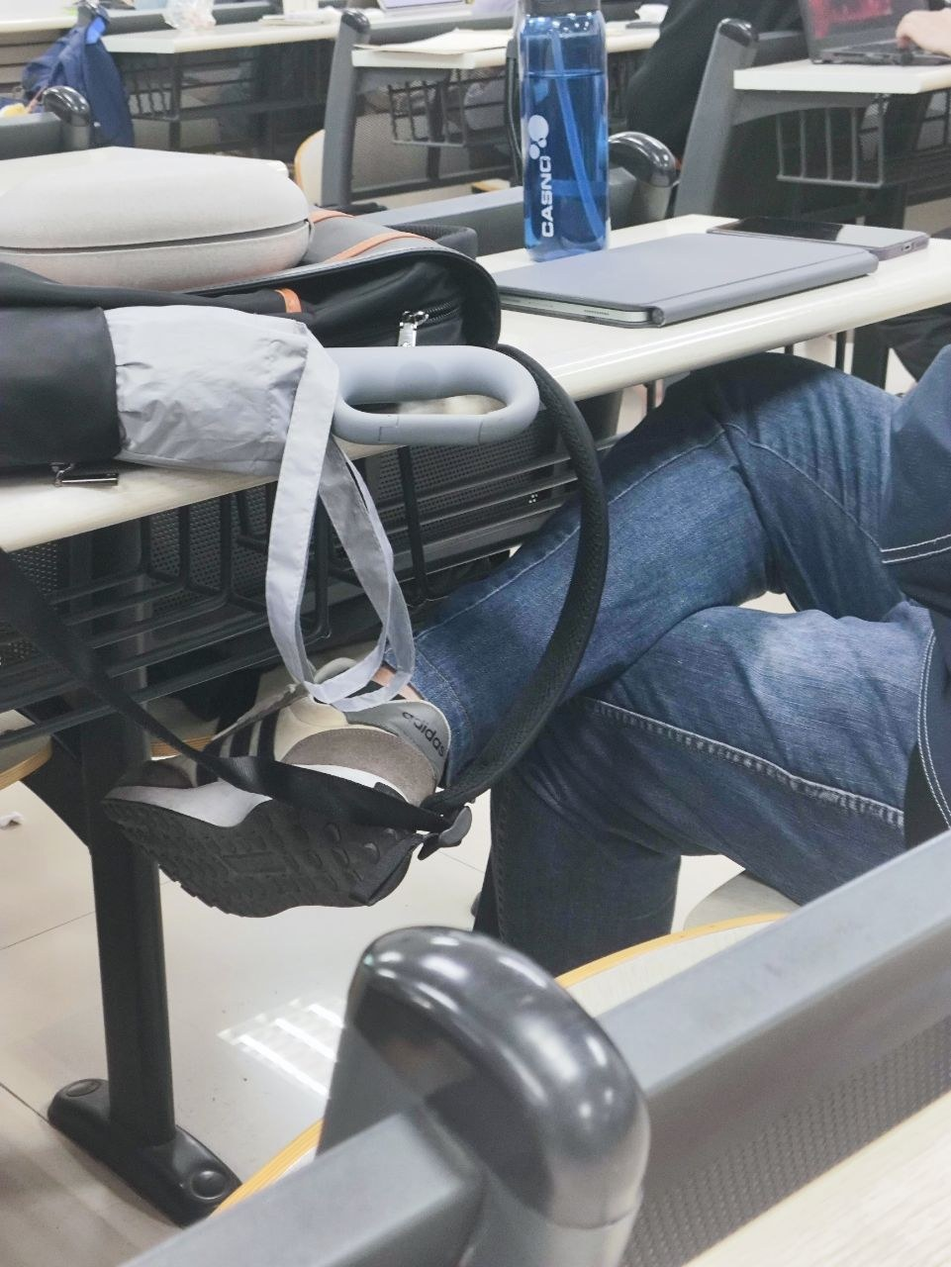cell phone: (710, 210, 929, 258)
laptop: (798, 0, 950, 65)
